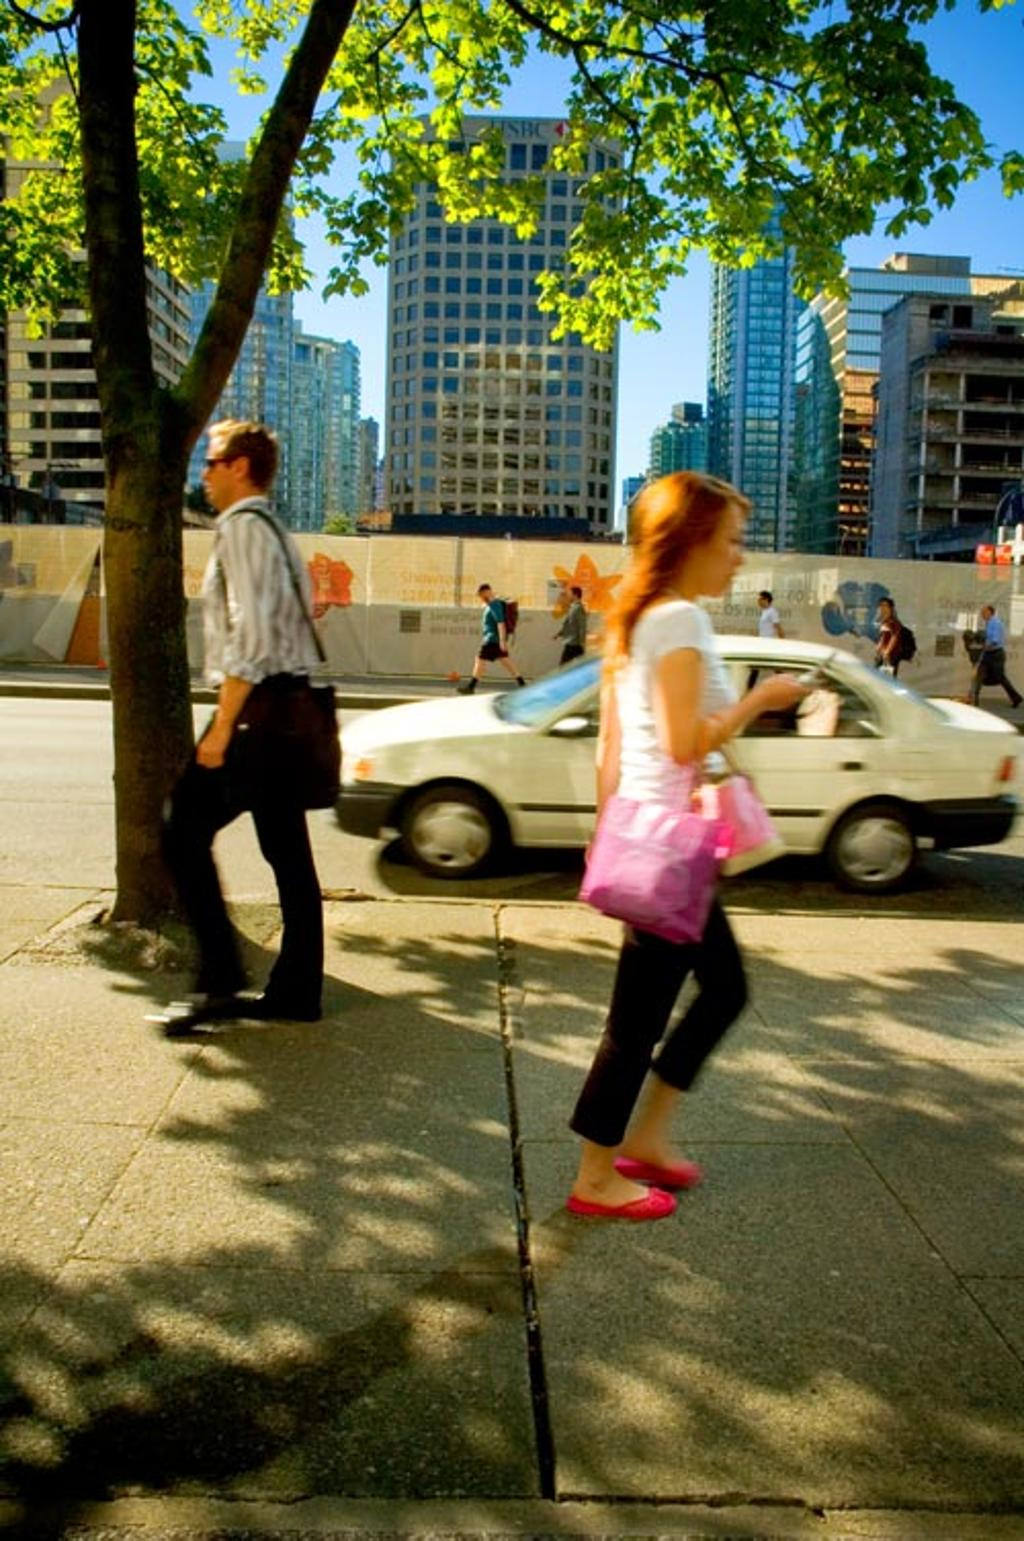face: (693, 500, 744, 598), (200, 434, 239, 501)
